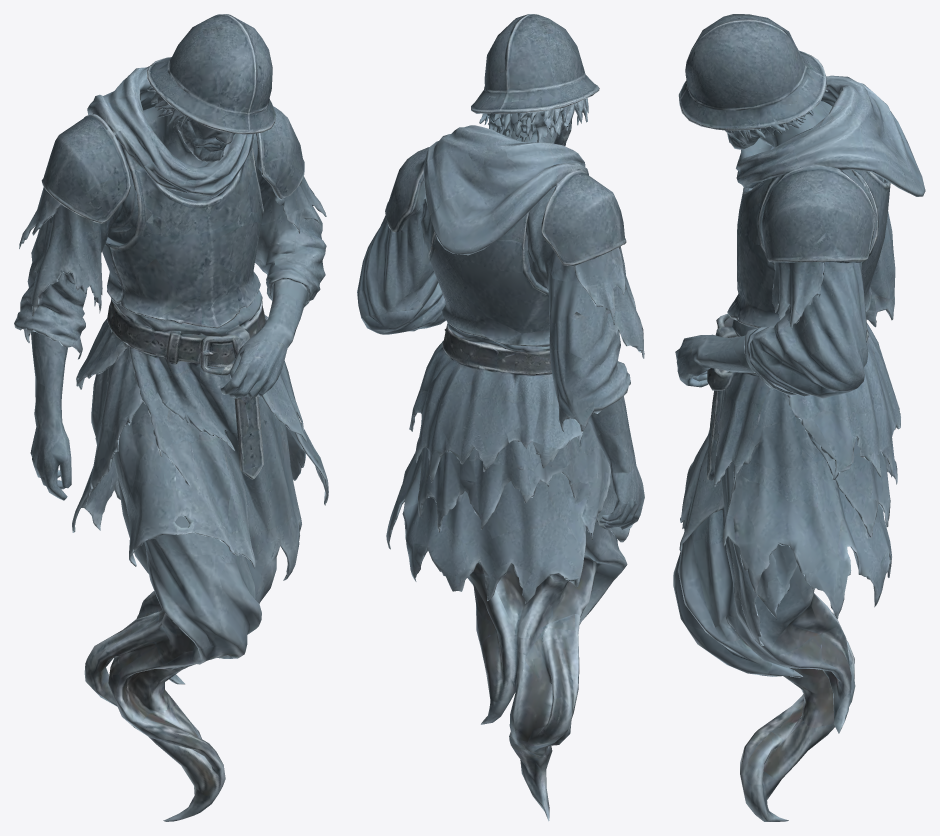
File: ghost-sentinel.glb
3 renders of one model, left to right at view 1: azimuth 30°, elevation 25°; view 2: azimuth 150°, elevation 25°; view 3: azimuth 270°, elevation 25°, orthographic. The views are drawn at different scales.
Size of the model in its own units: 0.7154 by 1.9 by 0.5263.
1 material, 1 textured.
